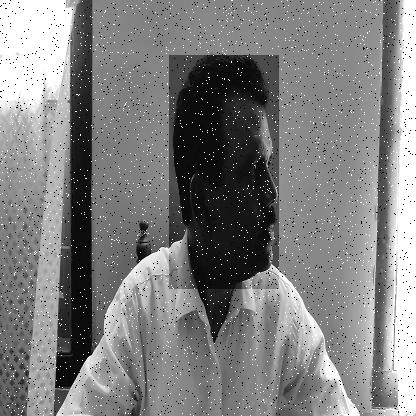Distracted: (169, 56, 279, 290)
